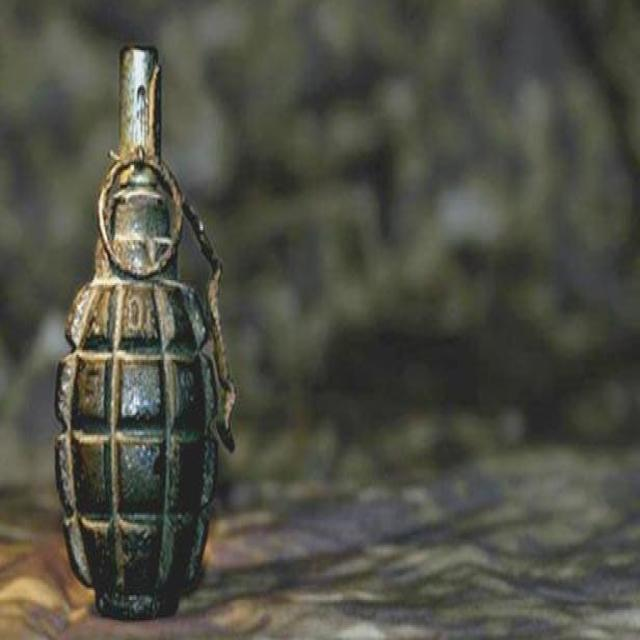grenade: (55, 44, 239, 623)
